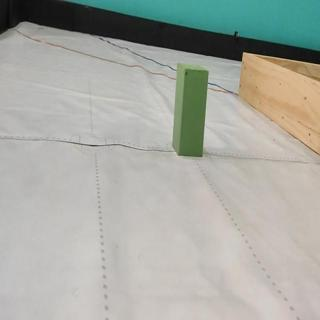greenbox: (175, 61, 211, 156)
